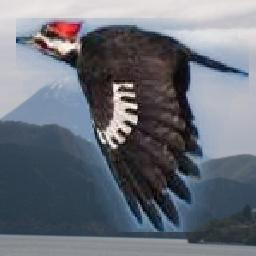Woodpecker: (17, 18, 250, 232)
